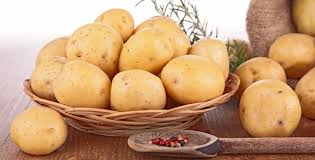potato: (44, 55, 117, 111), (242, 79, 301, 139), (12, 104, 76, 158), (164, 53, 221, 98), (109, 68, 172, 108), (67, 22, 116, 73), (121, 30, 172, 75)
